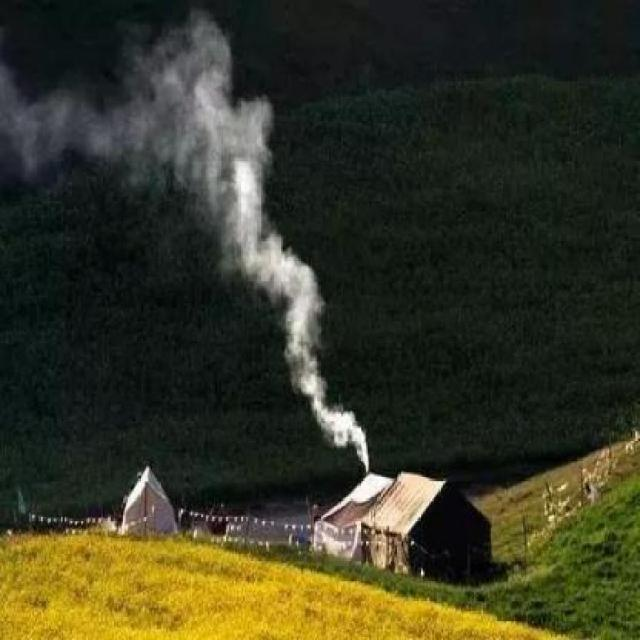Smoke: (0, 0, 372, 473)
